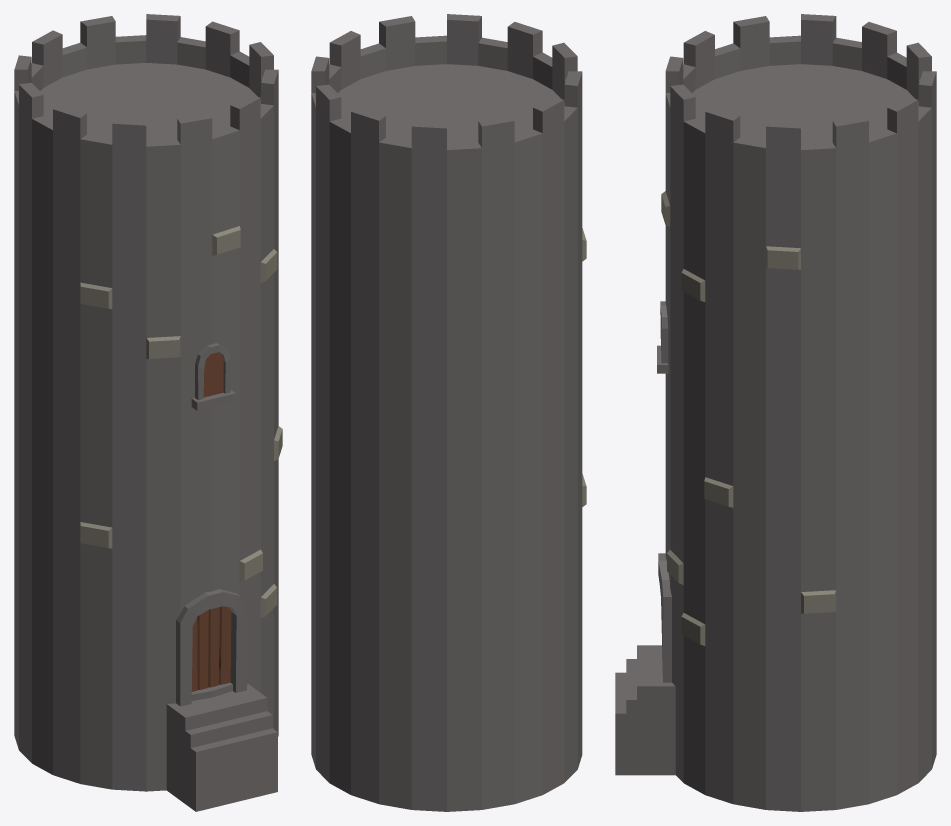
File: WatchTower.fbx
3 views of the same model, side by side, from view 1: azimuth 30°, elevation 25°; view 2: azimuth 150°, elevation 25°; view 3: azimuth 270°, elevation 25° (orthographic). The views are drawn at different scales.
Visible parts, largest first — view 1: Cylinder; view 2: Cylinder; view 3: Cylinder.
Part boxes in pixels (x1,y1,x2,y2): Cylinder: [14, 14, 282, 811]; Cylinder: [311, 14, 586, 811]; Cylinder: [615, 14, 936, 811].
Bounding box in the file's own units: 508 × 1391 × 593.
